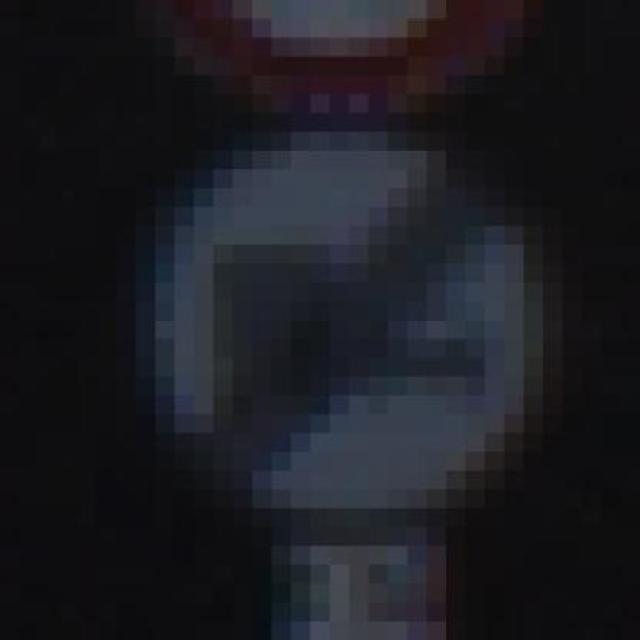Overtaking by trucks is prohibited: (97, 94, 601, 528)
